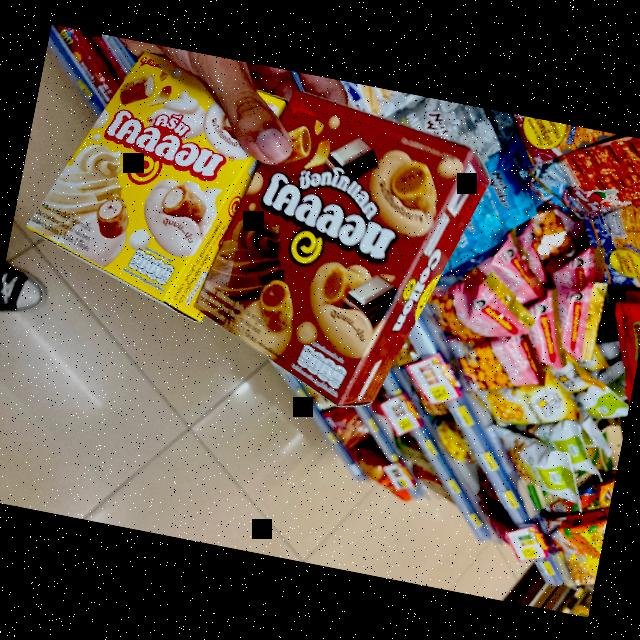cardboard_box: (194, 78, 496, 439), (8, 38, 304, 339)
